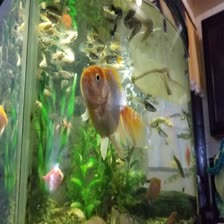Cuezo: (77, 62, 146, 157)
Guppy: (38, 164, 63, 188), (161, 77, 176, 95), (150, 114, 168, 129)
